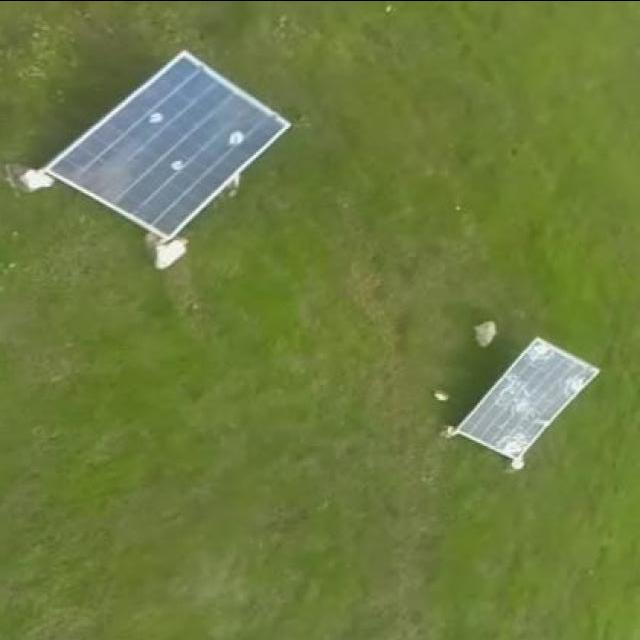cracked: (454, 331, 604, 464)
soiled: (44, 44, 296, 241)
